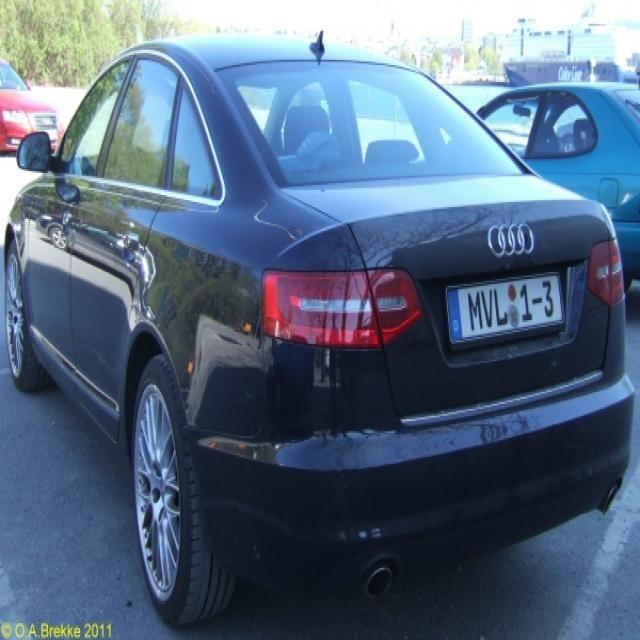license-plates: (447, 274, 565, 344)
